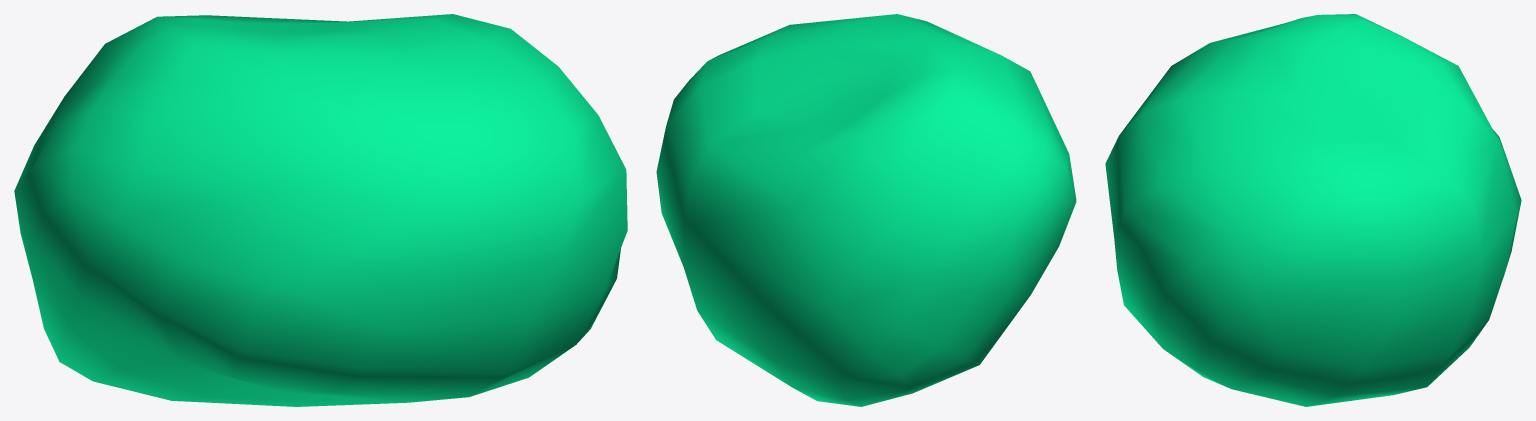
Rendered from rock_balancing_small_01.fbx.
3 views of the same model, side by side, from view 1: azimuth 30°, elevation 25°; view 2: azimuth 150°, elevation 25°; view 3: azimuth 270°, elevation 25° (orthographic). The views are drawn at different scales.
Visible parts, largest first — view 1: rock_balancing_small_01; view 2: rock_balancing_small_01; view 3: rock_balancing_small_01.
Part boxes in pixels (left/top/right/bottom): rock_balancing_small_01: left=14, top=14, right=627, bottom=406; rock_balancing_small_01: left=656, top=14, right=1076, bottom=406; rock_balancing_small_01: left=1105, top=14, right=1521, bottom=406.
Size of the model in its own units: 8.3 by 6.08 by 7.39.
